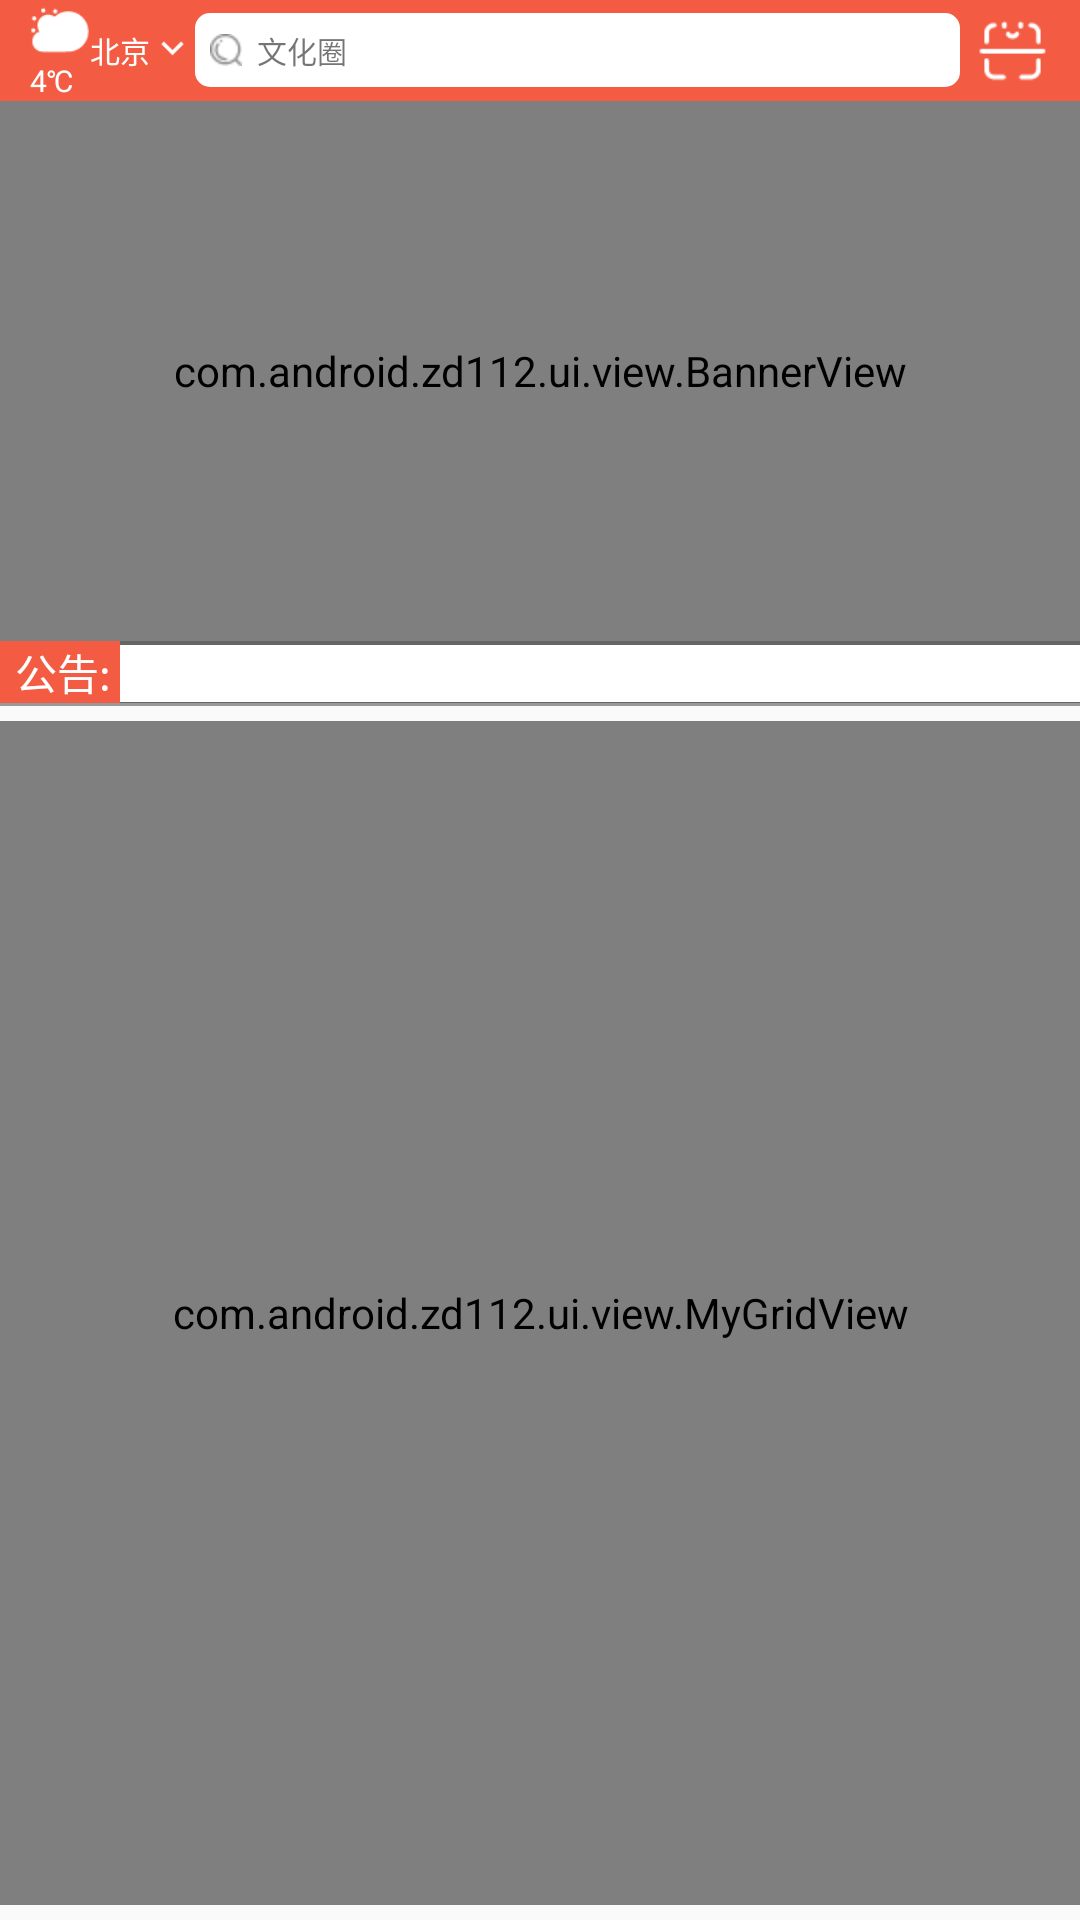

Where icons sit on this 1080*1920 app screen, as {"x1": x1, "y1": y1, "x2": x2, "y2": y2}:
weather: {"x1": 31, "y1": 8, "x2": 89, "y2": 53}
